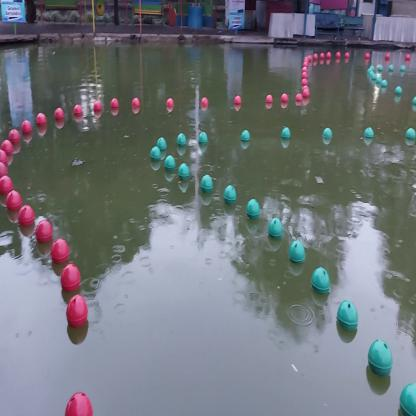green_buoy: (366, 334, 394, 378), (307, 256, 332, 301), (336, 292, 358, 340), (398, 372, 416, 416), (287, 239, 308, 268), (266, 211, 284, 244), (196, 171, 216, 198), (242, 196, 261, 223), (221, 184, 240, 209), (320, 122, 334, 146), (196, 126, 210, 150), (178, 161, 192, 184), (361, 122, 375, 144), (162, 155, 178, 174), (148, 144, 162, 165), (238, 122, 250, 146), (404, 124, 416, 145), (177, 128, 187, 152), (280, 124, 290, 146), (158, 134, 168, 154)
red_buoy: (64, 284, 90, 330), (64, 382, 97, 416), (56, 261, 84, 294), (49, 238, 71, 267), (34, 221, 57, 247), (18, 203, 36, 228), (4, 186, 22, 210), (0, 172, 13, 198), (21, 115, 32, 136), (54, 103, 64, 126), (72, 101, 84, 120), (3, 137, 13, 159), (36, 109, 45, 131), (9, 128, 20, 144), (0, 161, 9, 180), (164, 95, 174, 111), (130, 97, 140, 111), (92, 99, 102, 112), (110, 95, 118, 111), (0, 149, 7, 167), (302, 87, 312, 99), (233, 94, 243, 106), (201, 94, 208, 110), (295, 90, 302, 103), (265, 92, 272, 104), (282, 90, 287, 104)
